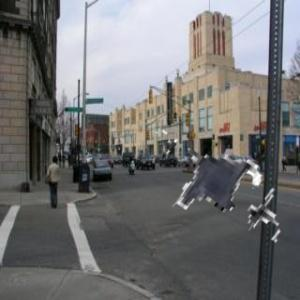drone: (113, 103, 294, 284)
